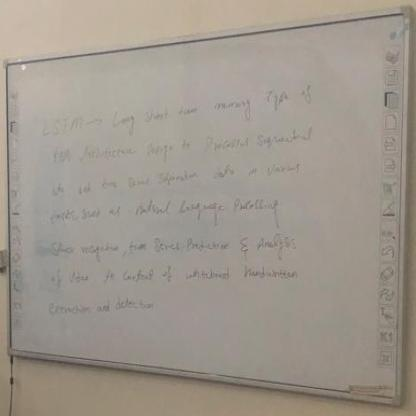Handwritten text: (32, 71, 322, 147), (42, 148, 308, 205), (40, 121, 323, 169), (38, 251, 312, 298), (41, 187, 297, 230), (45, 230, 298, 263)
